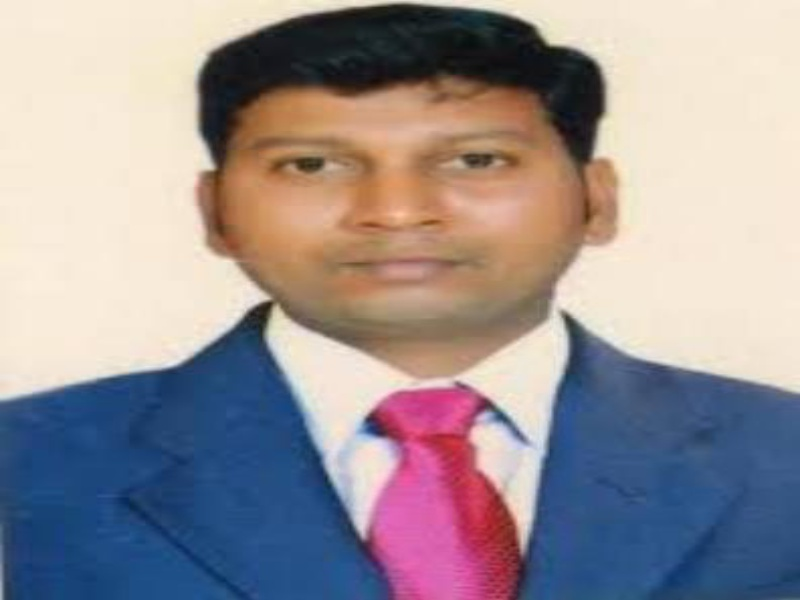TsisyArotava: (158, 3, 654, 388)
